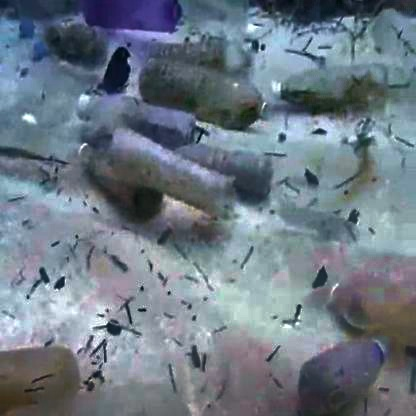pbottle: (115, 122, 259, 222), (283, 302, 396, 416), (137, 57, 275, 144), (58, 121, 169, 226), (76, 79, 210, 157), (268, 48, 388, 127), (152, 31, 265, 80)
